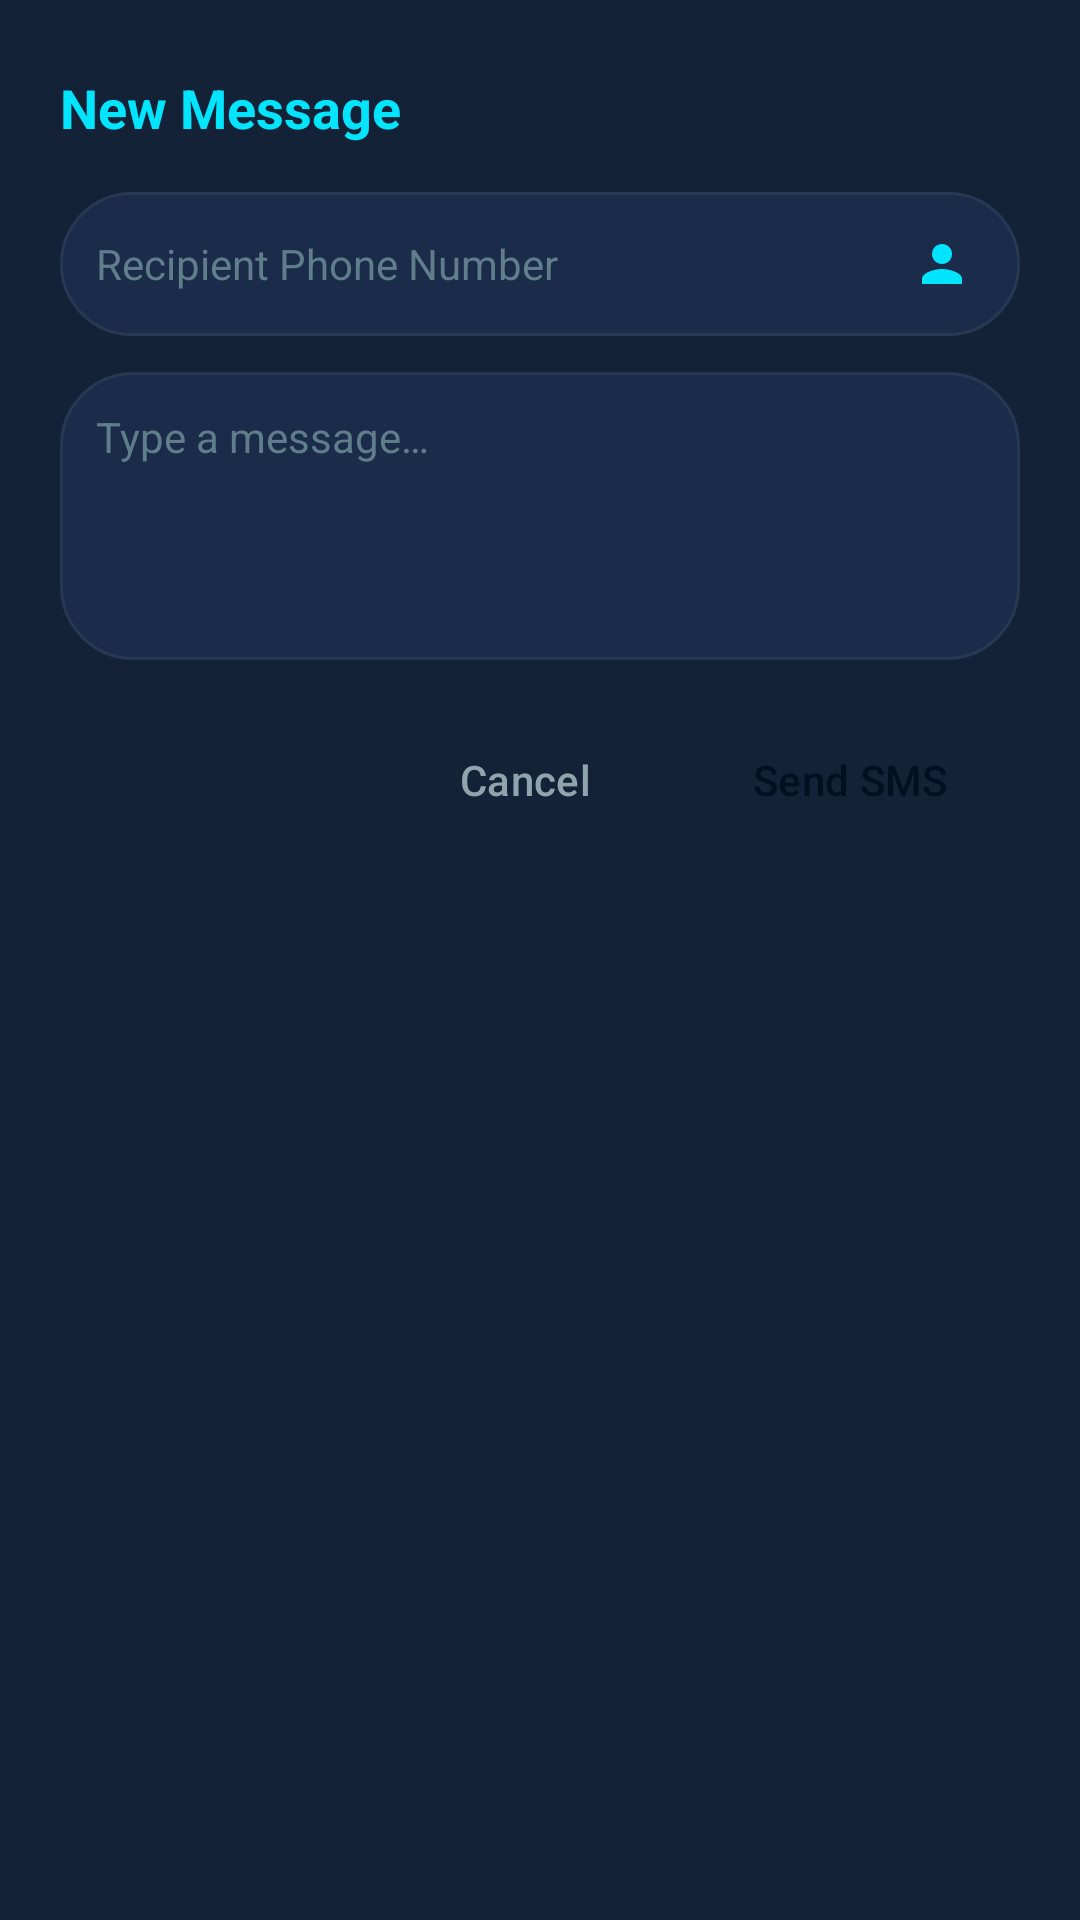

Named icons in this screenshot (1080px×1920px) and their bounding boxes, [x1=x1, y1=y1, x2=x2, y2=y2]:
contacts: [x1=922, y1=244, x2=962, y2=284]
